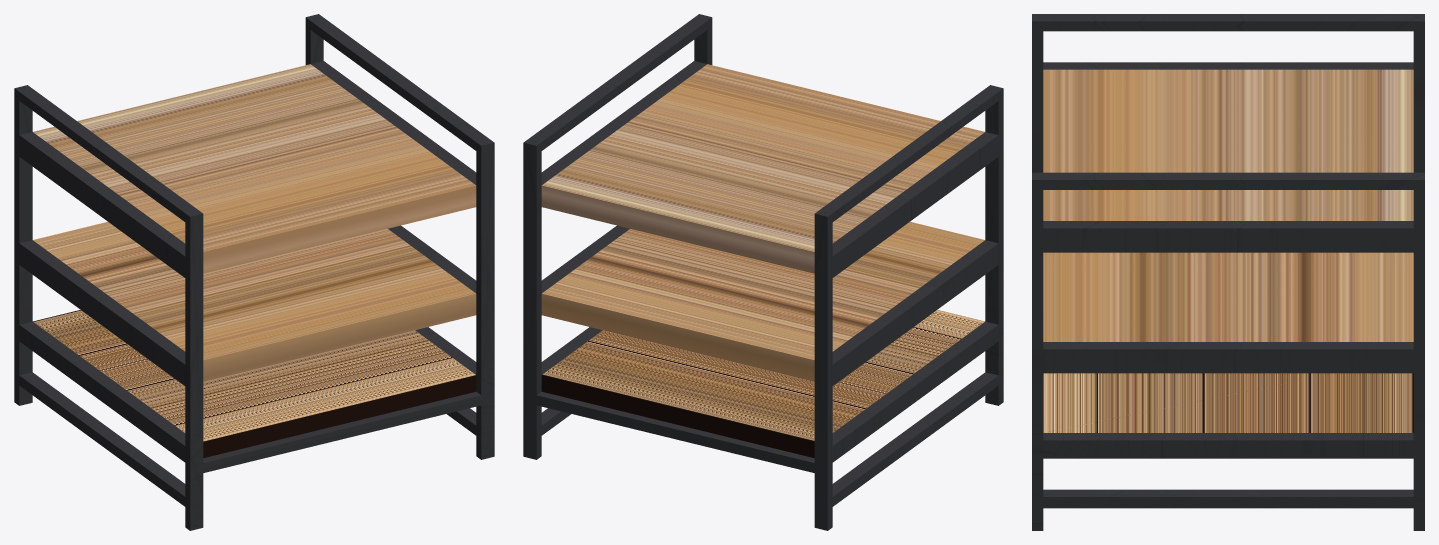
Rendered from lemari besi dan kayu kecil.fbx.
3 renders of one model, left to right at view 1: azimuth 30°, elevation 25°; view 2: azimuth 150°, elevation 25°; view 3: azimuth 270°, elevation 25°, orthographic. The views are drawn at different scales.
Visible parts, largest first — view 1: Cube.006; view 2: Cube.006; view 3: Cube.006.
Part boxes in pixels (x1,y1,x2,y2): Cube.006: (14, 14, 494, 530); Cube.006: (523, 14, 1003, 530); Cube.006: (1032, 14, 1424, 530).
Size of the model in its own units: 90.69 by 89.41 by 90.69.
2 materials, 2 textured.
